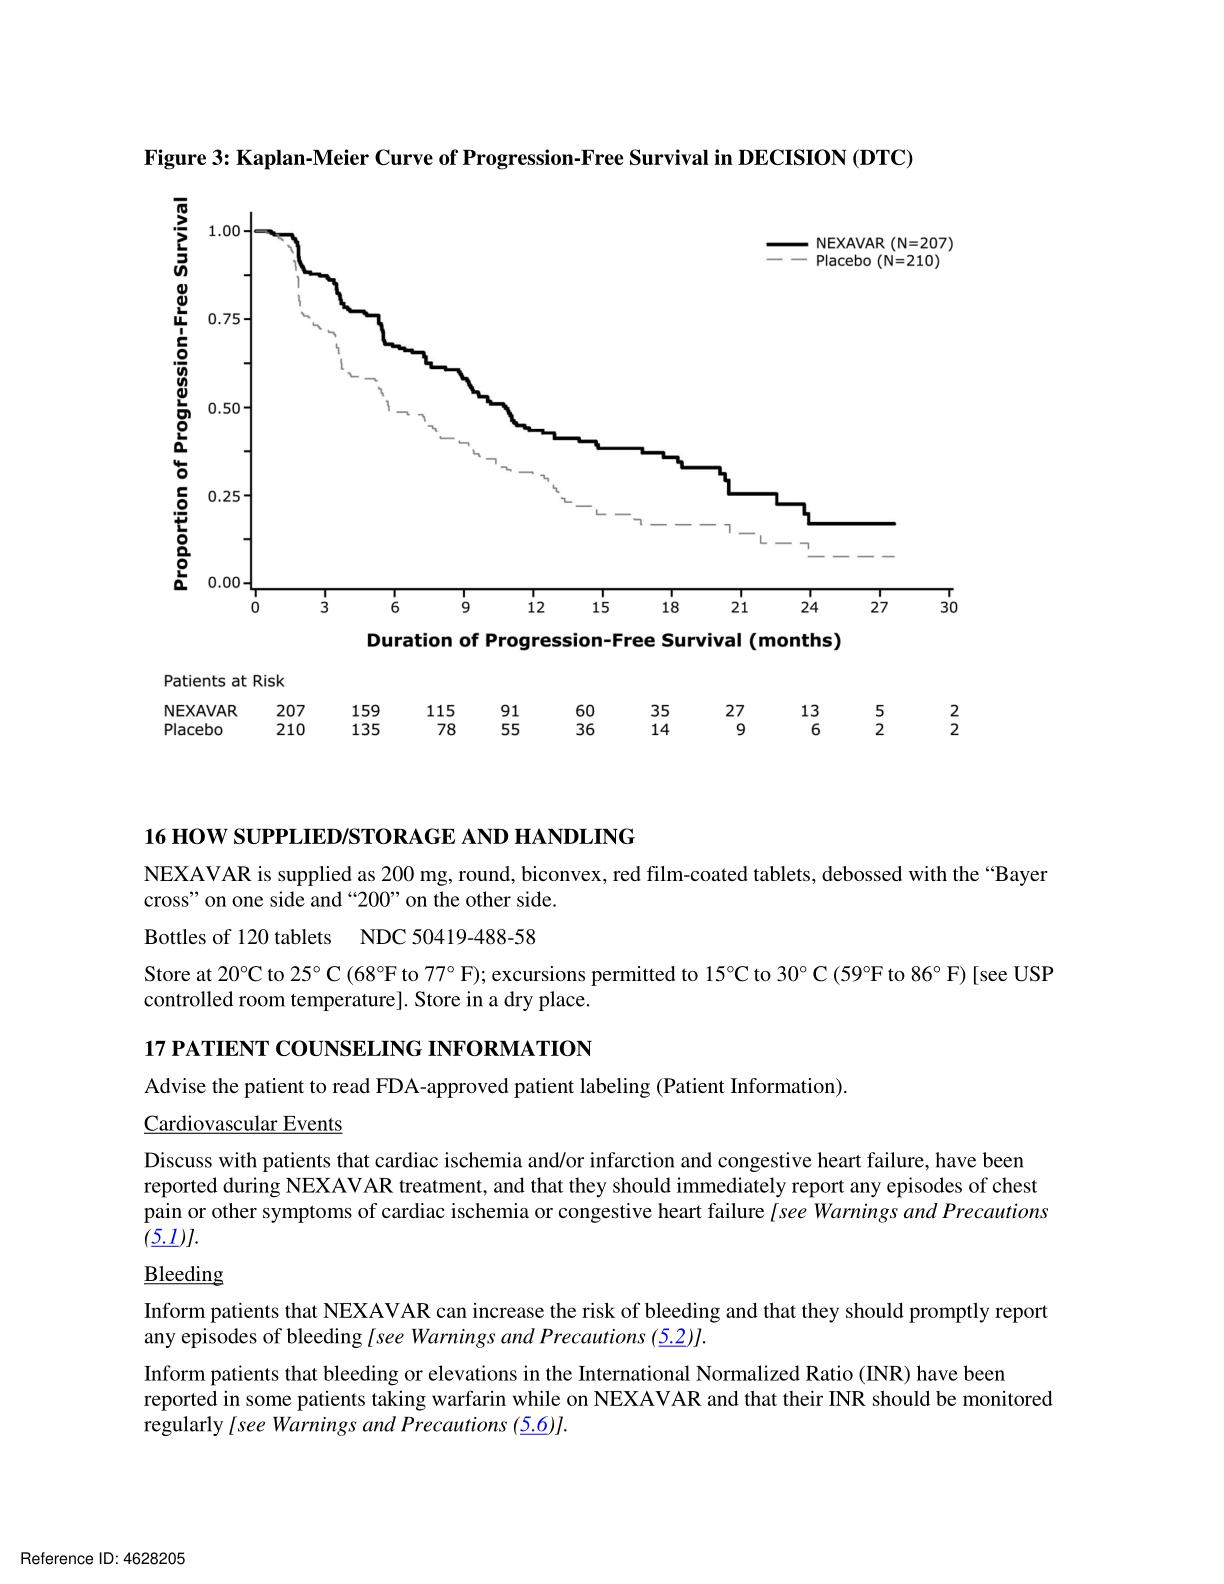nolines: (161, 670, 966, 742)
